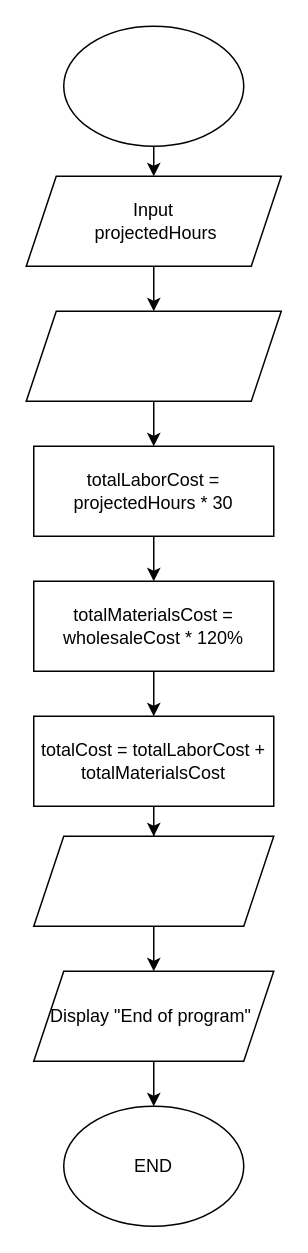
Image size: 308x1253. Some labels were removed from this diagram. Here are the shapes that lost their labels. From the top down, the centre of each, then its label:
the point at 153,85: Start
the point at 153,355: Input wholesaleCost
the point at 153,880: Output totalCost
